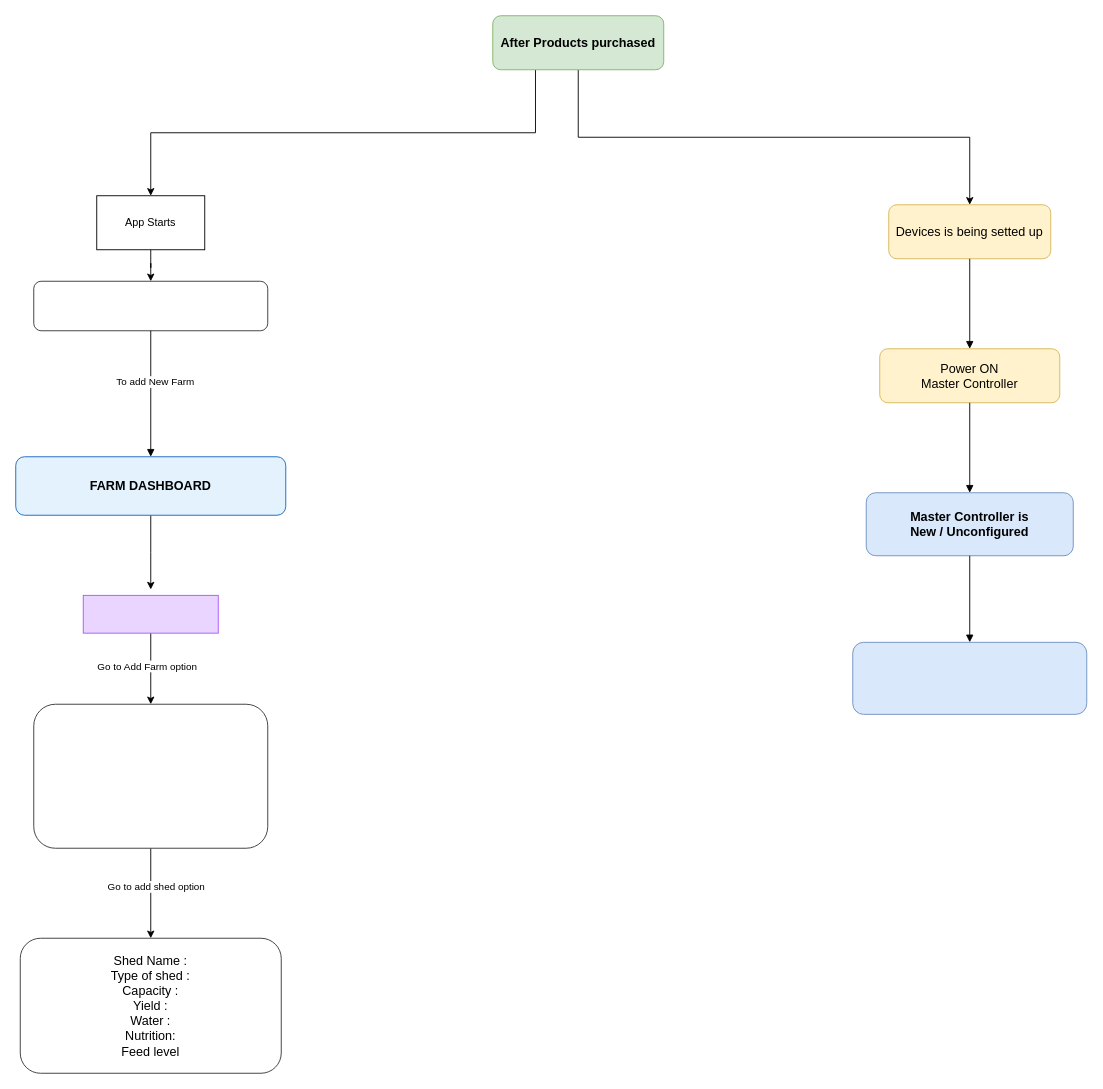
The diagram is 1103 pixels wide and 1089 high, and some of its shapes have lost their labels. The box of each missing label's shape, as (x1, y1, x2, y2) in pixels:
4. SETTINGS: (82, 594, 218, 633)
Add Farm Details Farm Name Location Manager Name Employee: (33, 703, 268, 848)
Authentication / Sign In / Sign Up: (33, 280, 268, 331)
Creates Temporary Wi-Fi AP SSID: Samposhi_Setup: (852, 641, 1087, 714)
